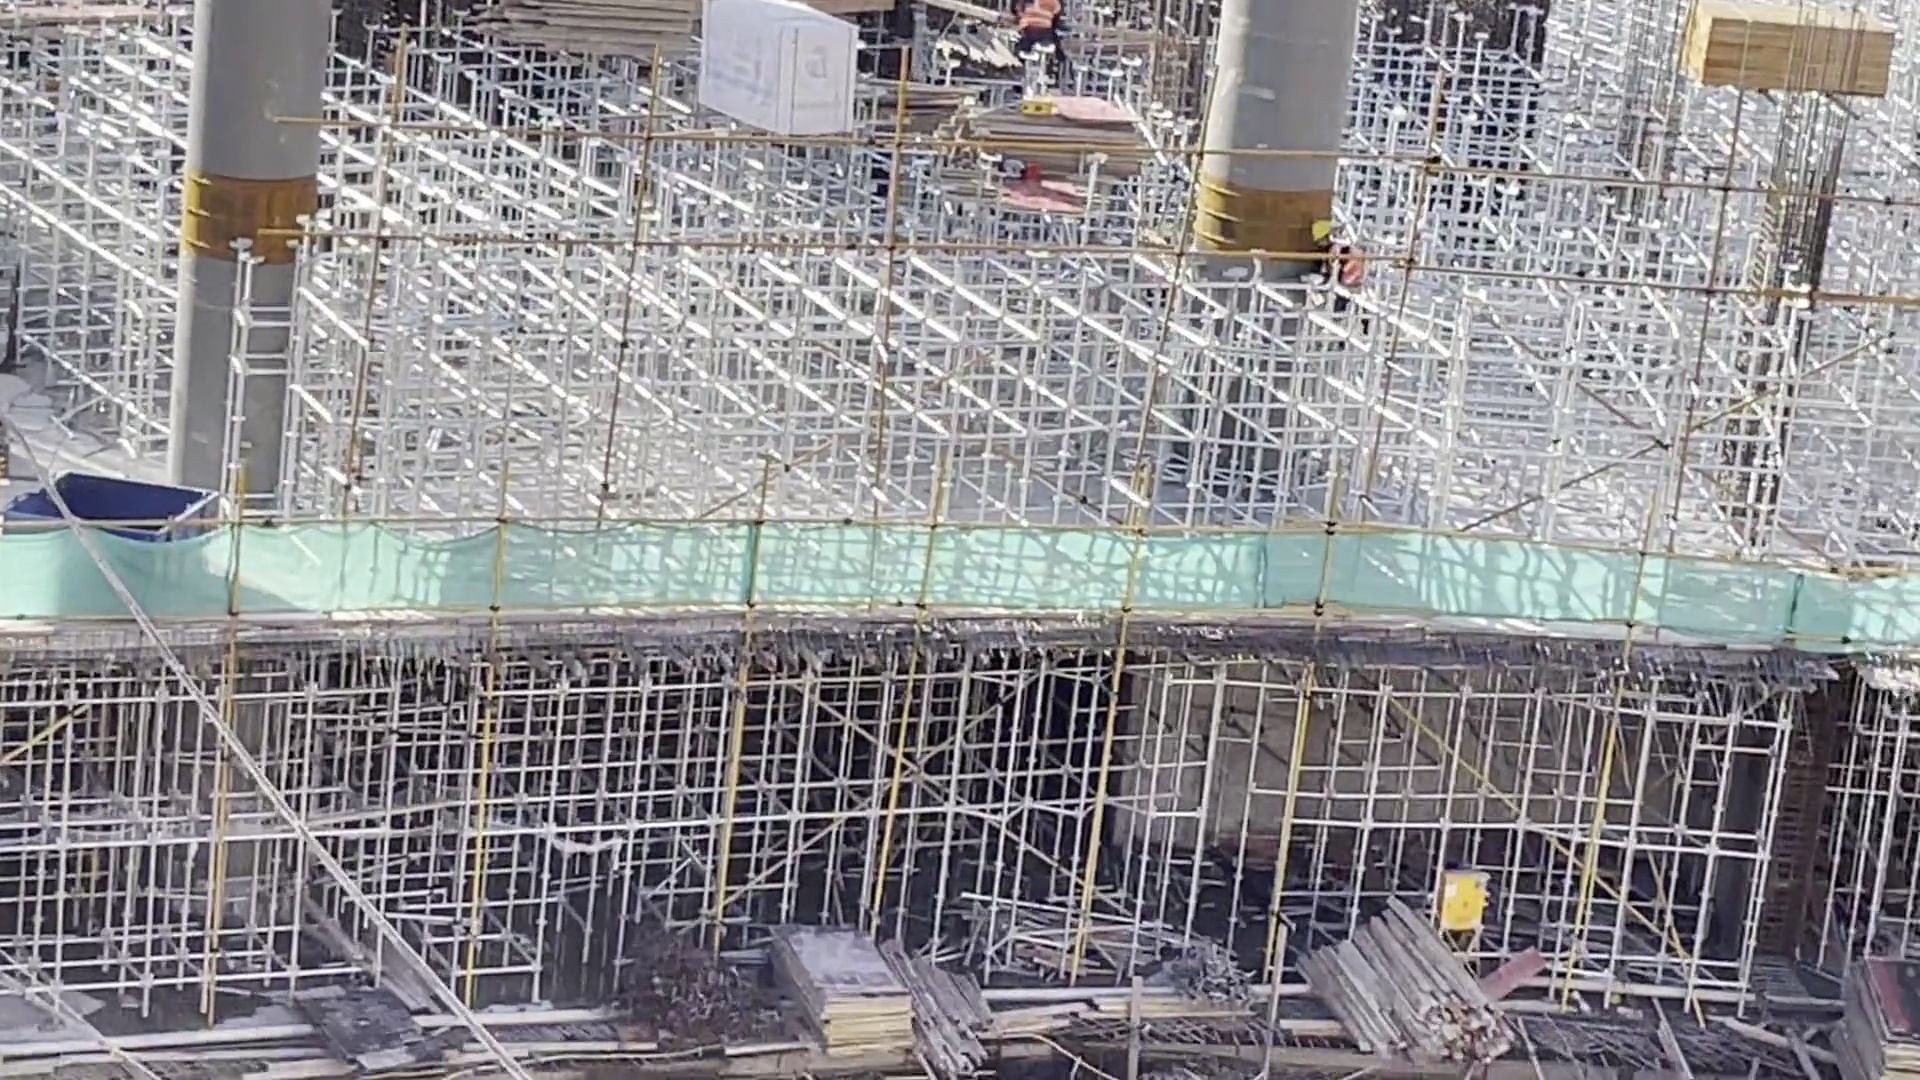board: (945, 86, 1146, 196), (771, 912, 915, 1056), (1812, 951, 1920, 1080)
ebox: (1439, 856, 1492, 946)
helmet: (1310, 218, 1332, 243)
hopper: (1, 470, 225, 543)
person: (1305, 214, 1367, 313), (1009, 1, 1062, 55)
vest: (1329, 247, 1365, 292), (1012, 1, 1056, 30)
wood: (1291, 893, 1508, 1061), (1667, 1, 1906, 91), (463, 1, 706, 60)
